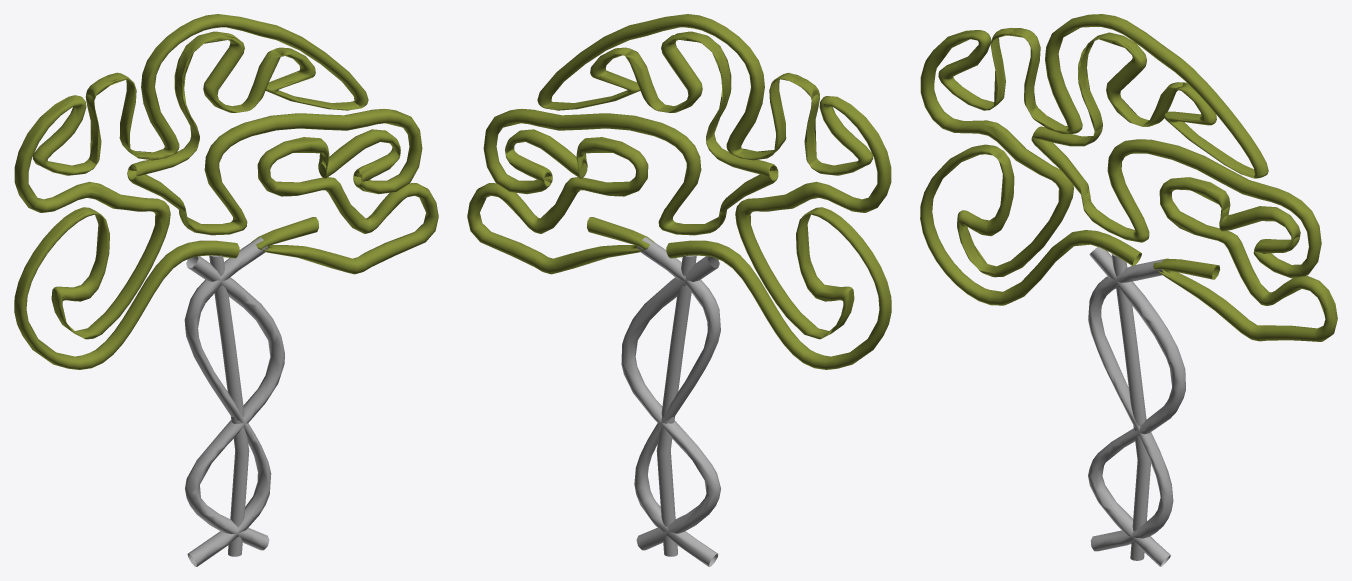
The model's file is TreeTest.fbx.
The picture shows the model from 3 angles, left to right: view 1: azimuth 30°, elevation 25°; view 2: azimuth 150°, elevation 25°; view 3: azimuth 330°, elevation 25°; orthographic projection.
Parts seen in each view (by area): view 1: pCylinder2; view 2: pCylinder2; view 3: pCylinder2.
Part boxes in pixels (left/top/right/bottom): pCylinder2: left=14, top=14, right=438, bottom=566; pCylinder2: left=467, top=14, right=891, bottom=566; pCylinder2: left=920, top=14, right=1337, bottom=566.
Size of the model in its own units: 5.89 by 7.3 by 0.2.
